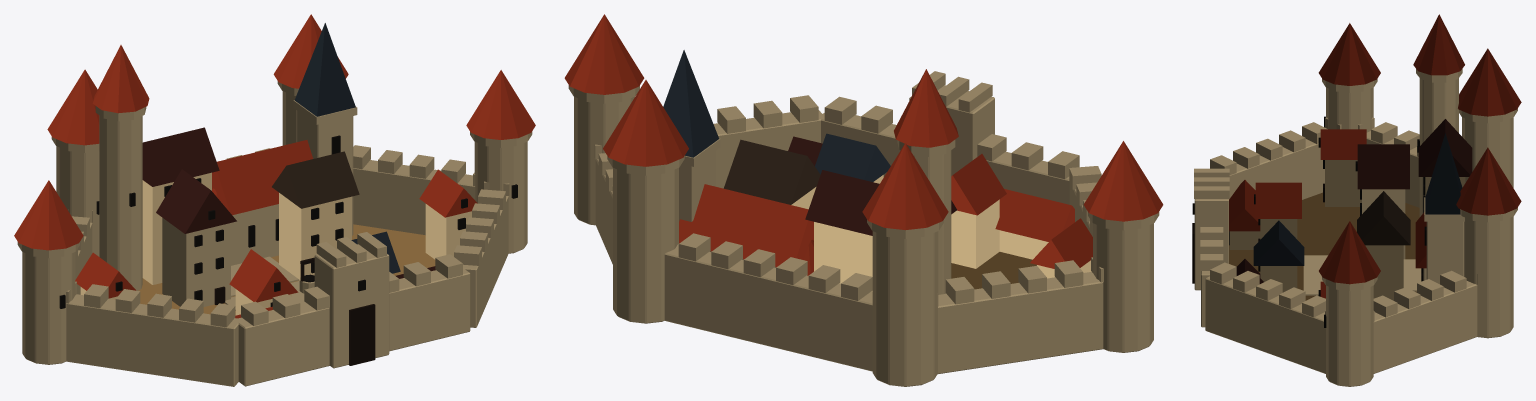
The model's file is settle_2_4.obj.
3 views of the same model, side by side, from view 1: azimuth 30°, elevation 25°; view 2: azimuth 150°, elevation 25°; view 3: azimuth 270°, elevation 25° (orthographic). The views are drawn at different scales.
Parts seen in each view (by area): view 1: core_stone, core_roof_civic, core_plaster, core_roof_tile_old, core_roof_tile, core_roof_shingle, core_slate, core_window, core_cloth, core_wood_dark; view 2: core_stone, core_roof_civic, core_roof_tile, core_plaster, core_roof_shingle, core_roof_tile_old, core_slate, core_roof_slate, core_cloth; view 3: core_stone, core_roof_civic, core_plaster, core_roof_tile_old, core_roof_tile, core_cloth, core_roof_shingle, core_slate, core_roof_slate, core_window.
Part boxes in pixels (x1,y1,x2,y2): core_stone: (17, 81, 532, 386); core_roof_civic: (14, 14, 535, 250); core_plaster: (80, 172, 471, 315); core_roof_tile_old: (142, 127, 435, 278); core_roof_tile: (75, 169, 477, 318); core_roof_shingle: (272, 151, 359, 208); core_slate: (294, 23, 355, 116); core_window: (59, 135, 517, 308); core_cloth: (138, 224, 435, 315); core_wood_dark: (214, 257, 375, 365); core_stone: (568, 71, 1159, 386); core_roof_civic: (564, 14, 1163, 275); core_roof_tile: (951, 154, 1092, 268); core_plaster: (791, 175, 1091, 291); core_roof_shingle: (723, 139, 820, 204); core_roof_tile_old: (788, 136, 956, 235); core_slate: (663, 50, 719, 157); core_roof_slate: (815, 133, 890, 181); core_cloth: (951, 252, 1036, 289); core_stone: (1194, 69, 1517, 386); core_roof_civic: (1318, 14, 1521, 284); core_plaster: (1229, 160, 1465, 300); core_roof_tile_old: (1236, 119, 1472, 283); core_roof_tile: (1229, 129, 1366, 298); core_cloth: (1229, 192, 1419, 300); core_roof_shingle: (1357, 191, 1410, 245); core_slate: (1425, 133, 1462, 214); core_roof_slate: (1253, 220, 1304, 265); core_window: (1192, 116, 1426, 327).
Bounding box in the file's own units: 1.72 × 0.782 × 1.07.
